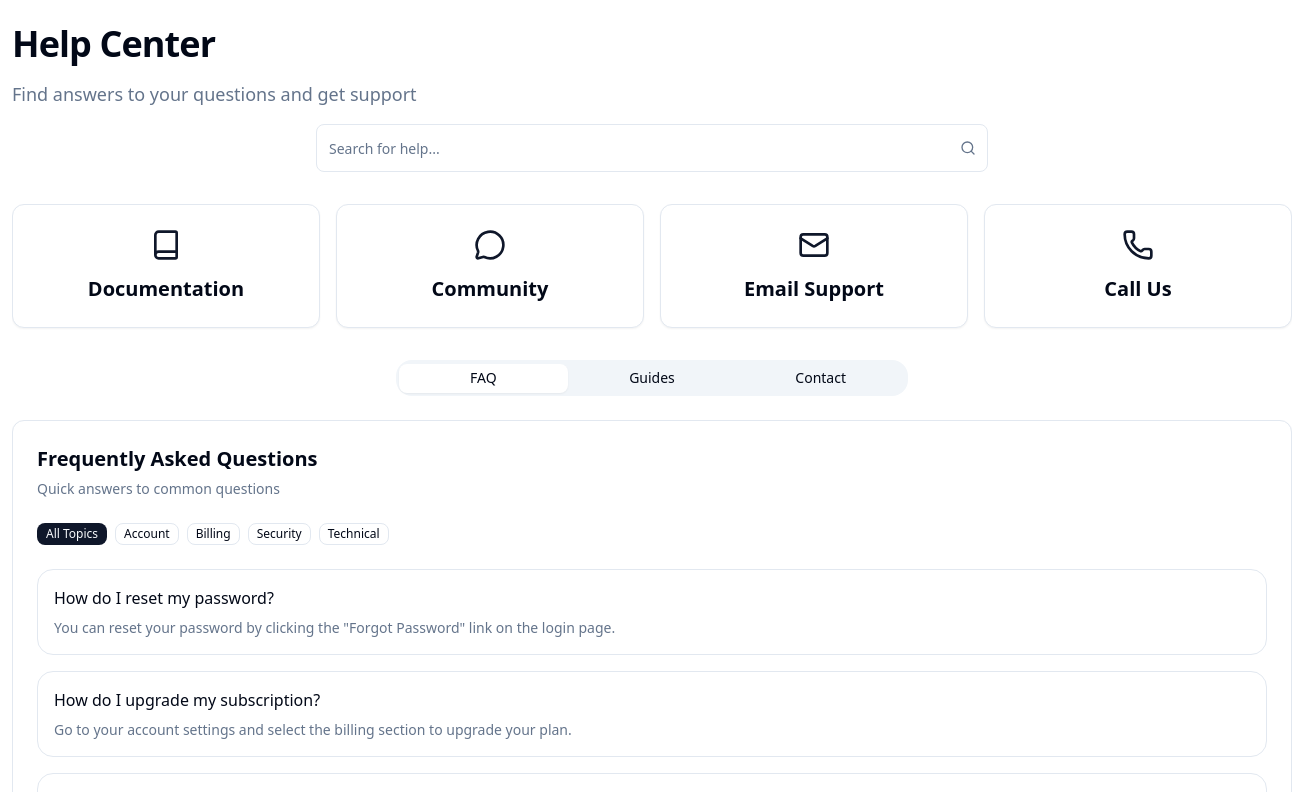
Test case: HelpPage › filters content by search query
This screenshot has width=1292, height=792.
Step 1. Type "password" into the field with placeholder "Search for help..." → (652, 148), box [316,124,988,172]
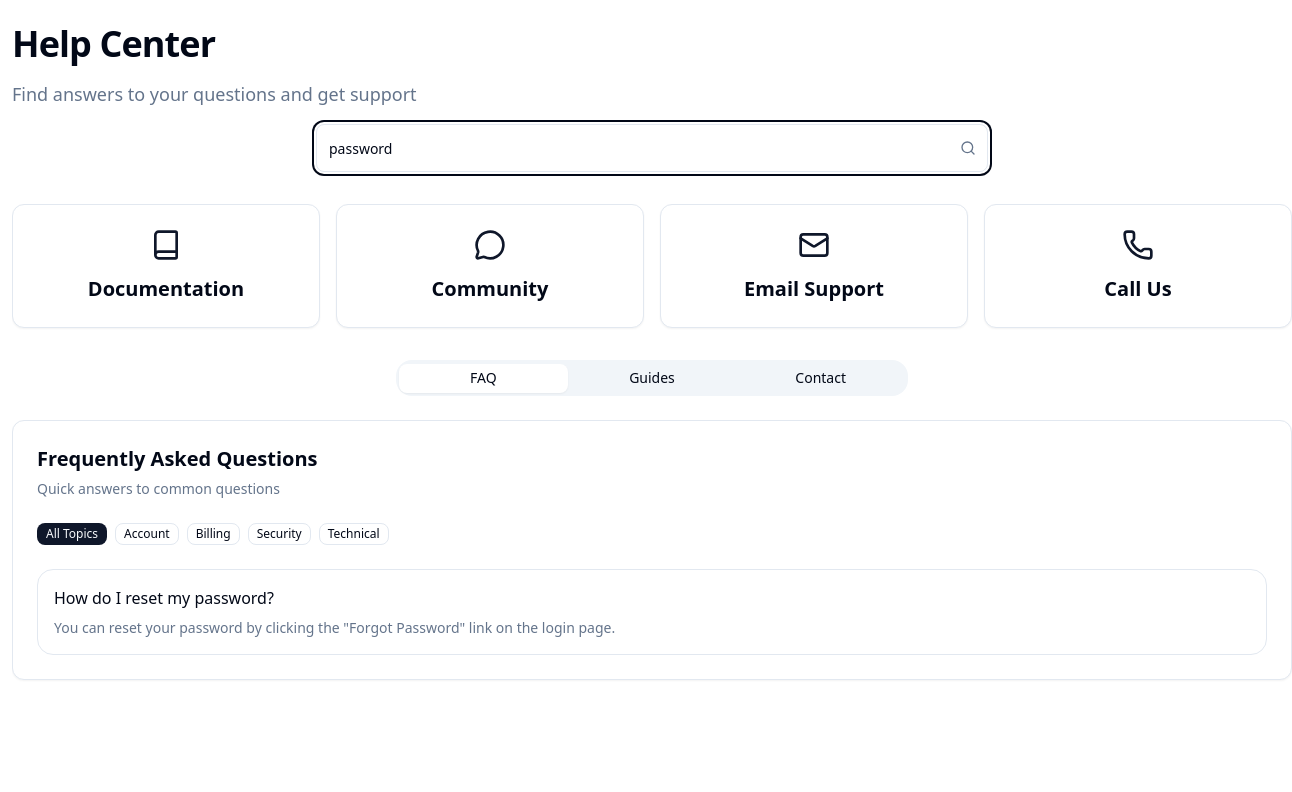
Expected: the heading "How do I reset my password?" is shown, [54,587,274,609]
Expected: the heading "How do I upgrade my subscription?" is gone
